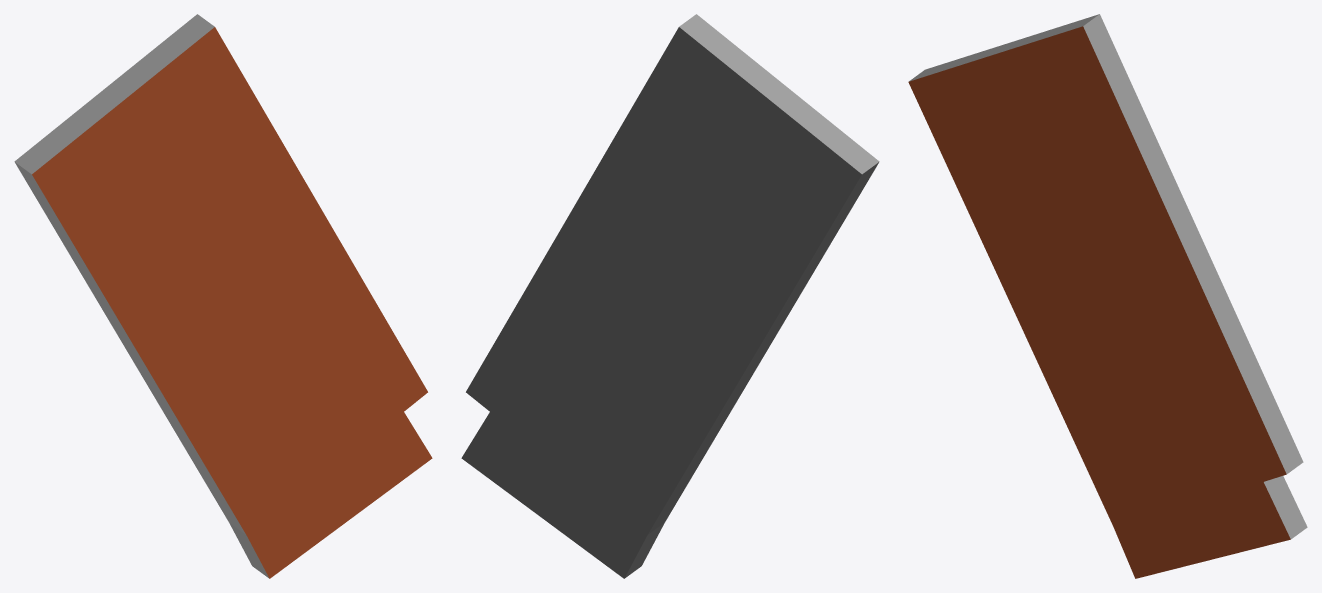
The model's file is construction_5730_assumed_A_Casa_h6m.obj.
3 renders of one model, left to right at view 1: azimuth 30°, elevation 25°; view 2: azimuth 150°, elevation 25°; view 3: azimuth 330°, elevation 25°, orthographic. The views are drawn at different scales.
Visible parts, largest first — view 1: construction_5730_assumed_A_Casa; view 2: construction_5730_assumed_A_Casa; view 3: construction_5730_assumed_A_Casa.
Boxes of the visible parts, box(x1,y1,x2,y2) form: construction_5730_assumed_A_Casa: box(14, 14, 432, 578); construction_5730_assumed_A_Casa: box(461, 14, 879, 578); construction_5730_assumed_A_Casa: box(908, 14, 1307, 578).
Size of the model in its own units: 79.08 by 107 by 6.
